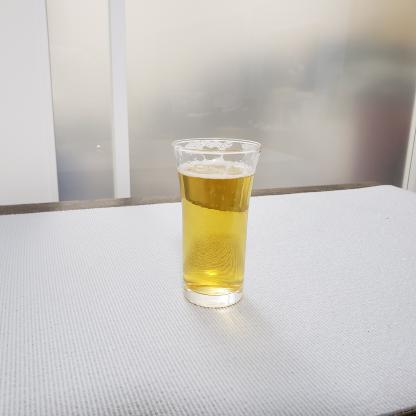glass: (169, 128, 280, 322)
